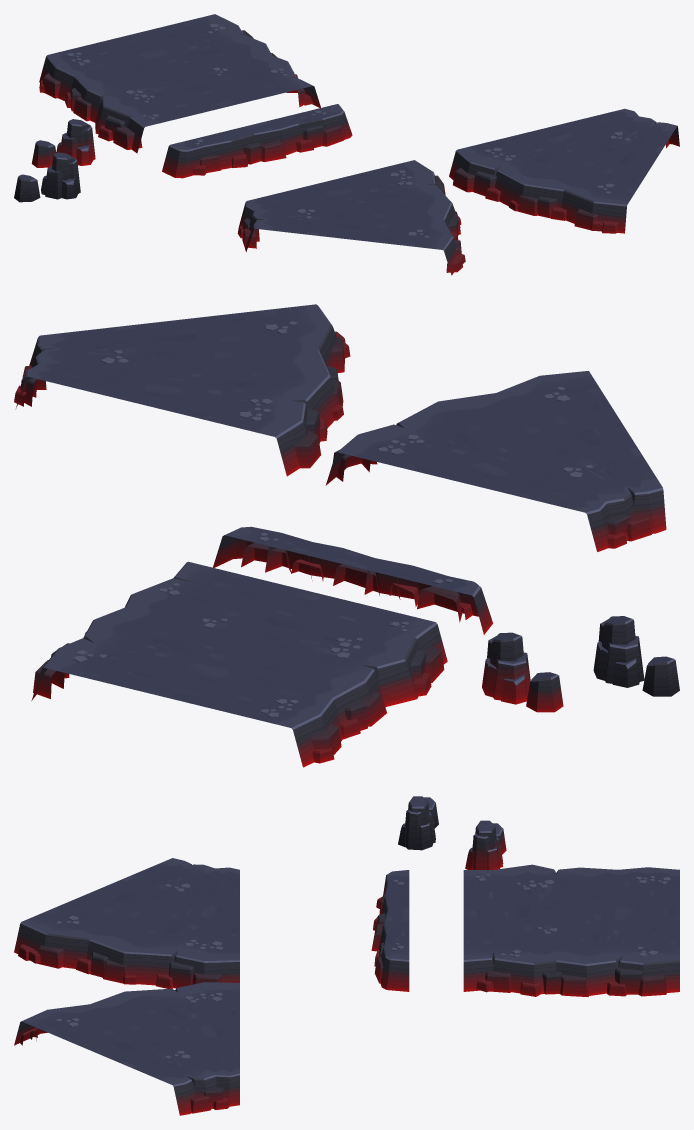
The model's file is grounds-1.fbx.
3 views of the same model, one above another, from view 1: azimuth 30°, elevation 25°; view 2: azimuth 150°, elevation 25°; view 3: azimuth 270°, elevation 25° (orthographic). The views are drawn at different scales.
Visible parts, largest first — view 1: Plane, Plane.005, Plane.001, Plane.004, Cylinder.004, Cylinder.003, Cylinder.005, Cylinder.002; view 2: Plane, Plane.005, Plane.001, Plane.004, Cylinder.004, Cylinder.003, Cylinder.002, Cylinder.005; view 3: Plane, Plane.001, Plane.005, Plane.004, Cylinder.004, Cylinder.003.
Boxes of the visible parts, x1=… form: Plane: x1=39, y1=14, x2=320, y2=153; Plane.005: x1=449, y1=108, x2=679, y2=233; Plane.001: x1=237, y1=160, x2=465, y2=275; Plane.004: x1=162, y1=104, x2=352, y2=178; Cylinder.004: x1=41, y1=152, x2=80, y2=199; Cylinder.003: x1=56, y1=119, x2=95, y2=165; Cylinder.005: x1=14, y1=174, x2=40, y2=202; Cylinder.002: x1=31, y1=140, x2=56, y2=167; Plane: x1=31, y1=561, x2=447, y2=767; Plane.005: x1=14, y1=304, x2=350, y2=476; Plane.001: x1=325, y1=371, x2=666, y2=551; Plane.004: x1=213, y1=526, x2=492, y2=634; Cylinder.004: x1=593, y1=616, x2=644, y2=687; Cylinder.003: x1=482, y1=632, x2=530, y2=704; Cylinder.002: x1=526, y1=672, x2=563, y2=712; Cylinder.005: x1=642, y1=656, x2=679, y2=696; Plane: x1=463, y1=864, x2=679, y2=996; Plane.001: x1=14, y1=858, x2=239, y2=988; Plane.005: x1=14, y1=982, x2=239, y2=1115; Plane.004: x1=371, y1=870, x2=409, y2=991; Cylinder.004: x1=398, y1=796, x2=435, y2=850; Cylinder.003: x1=465, y1=820, x2=503, y2=869.
Bounding box in the file's own units: 10368 × 692 × 9828.
